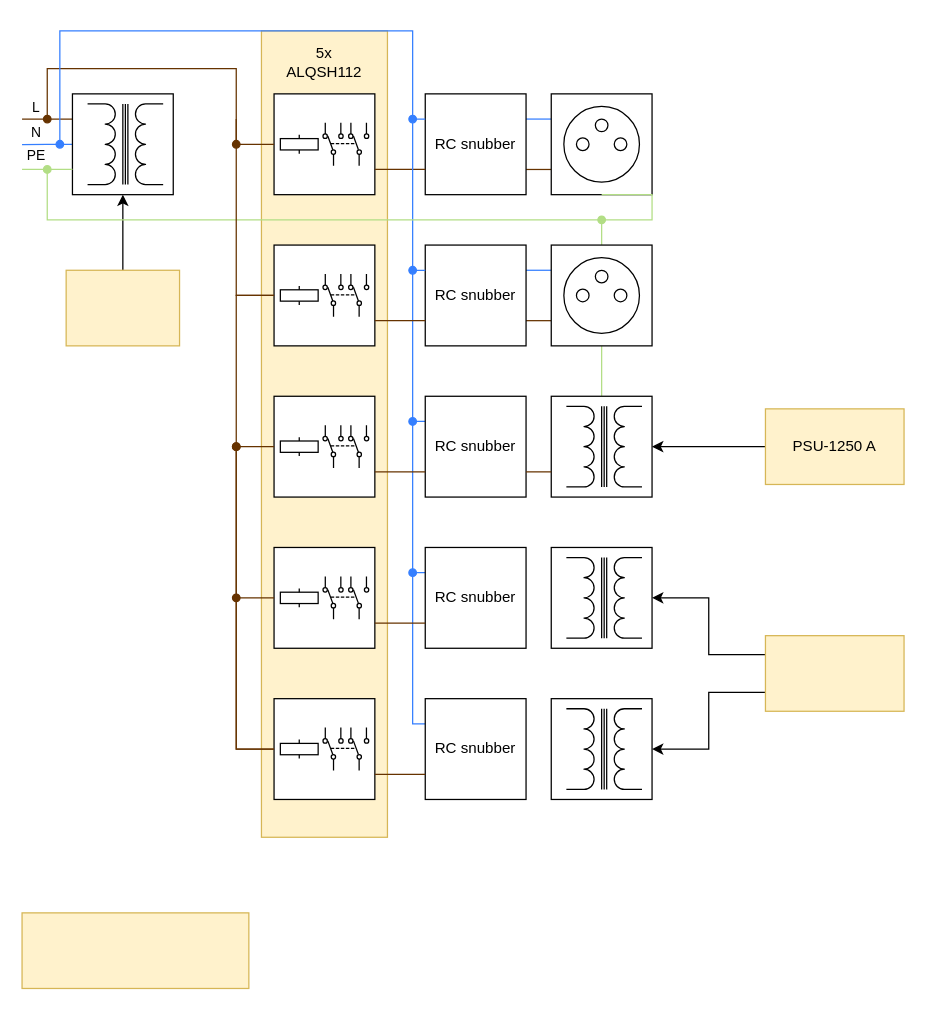
This 926x1011 diagram has some shape labels left out. Here are the shapes that lost their labels. From the top down, the box of each, then its label:
(65, 269, 180, 346): 709-MPQ200B
(764, 634, 904, 711): PS 30 SWII AC 230V / DC12 V 30A
(21, 912, 249, 988): AHQSH112LM100G U spínací cívka = 12V DC U spínaná cívka = 230V AC 10A
